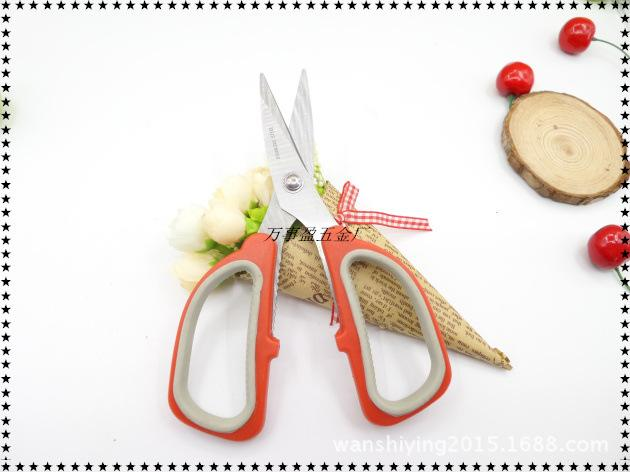scissor: (168, 70, 451, 446)
